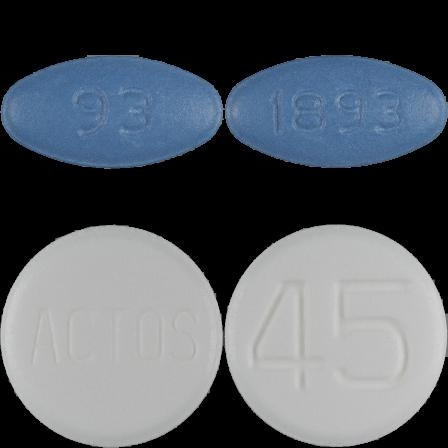0093-1893: (0, 0, 224, 224)
